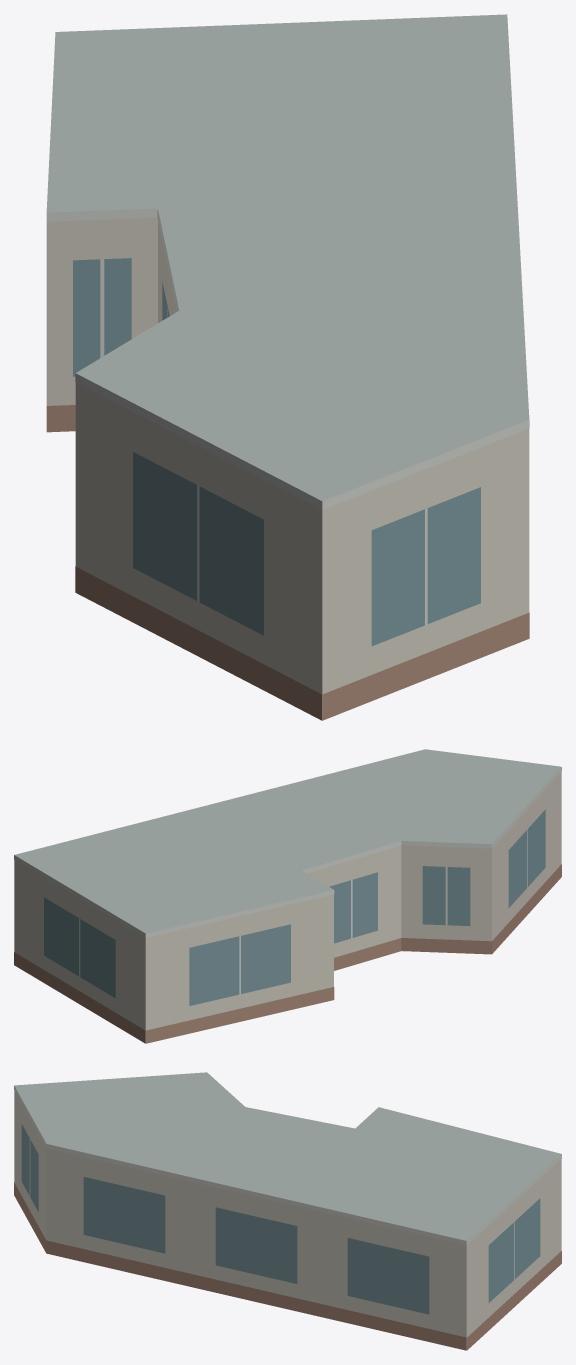
File: survey-upis-32907869.glb
The picture shows the model from 3 angles, top to bottom: view 1: azimuth 30°, elevation 25°; view 2: azimuth 150°, elevation 25°; view 3: azimuth 270°, elevation 25°; orthographic projection. The views are drawn at different scales.
Parts seen in each view (by area): view 1: survey-upis-32907869.tmp; view 2: survey-upis-32907869.tmp; view 3: survey-upis-32907869.tmp.
Boxes of the visible parts, bbox=[...] form: survey-upis-32907869.tmp: bbox=[46, 14, 529, 720]; survey-upis-32907869.tmp: bbox=[14, 749, 561, 1043]; survey-upis-32907869.tmp: bbox=[14, 1072, 561, 1350].
Size of the model in its own units: 10.07 by 3.05 by 13.82.
